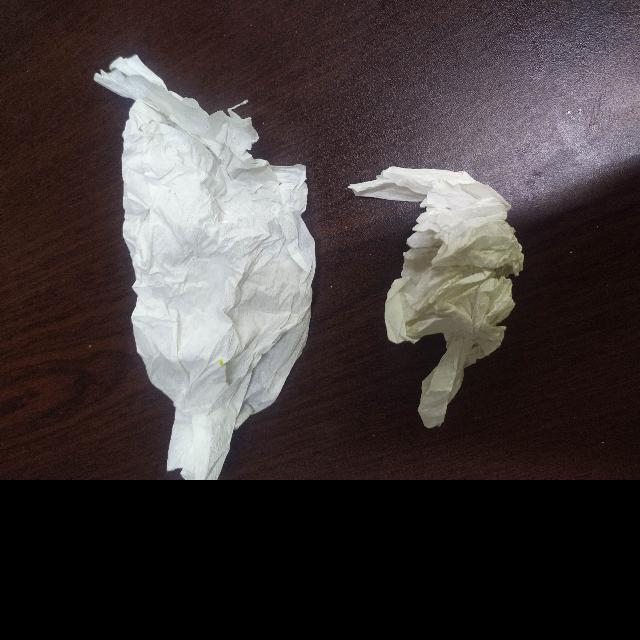kitchen paper: (78, 45, 316, 481), (344, 133, 529, 441)
